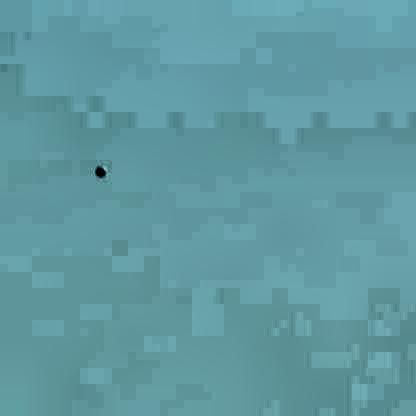golfball: (91, 163, 107, 176)
